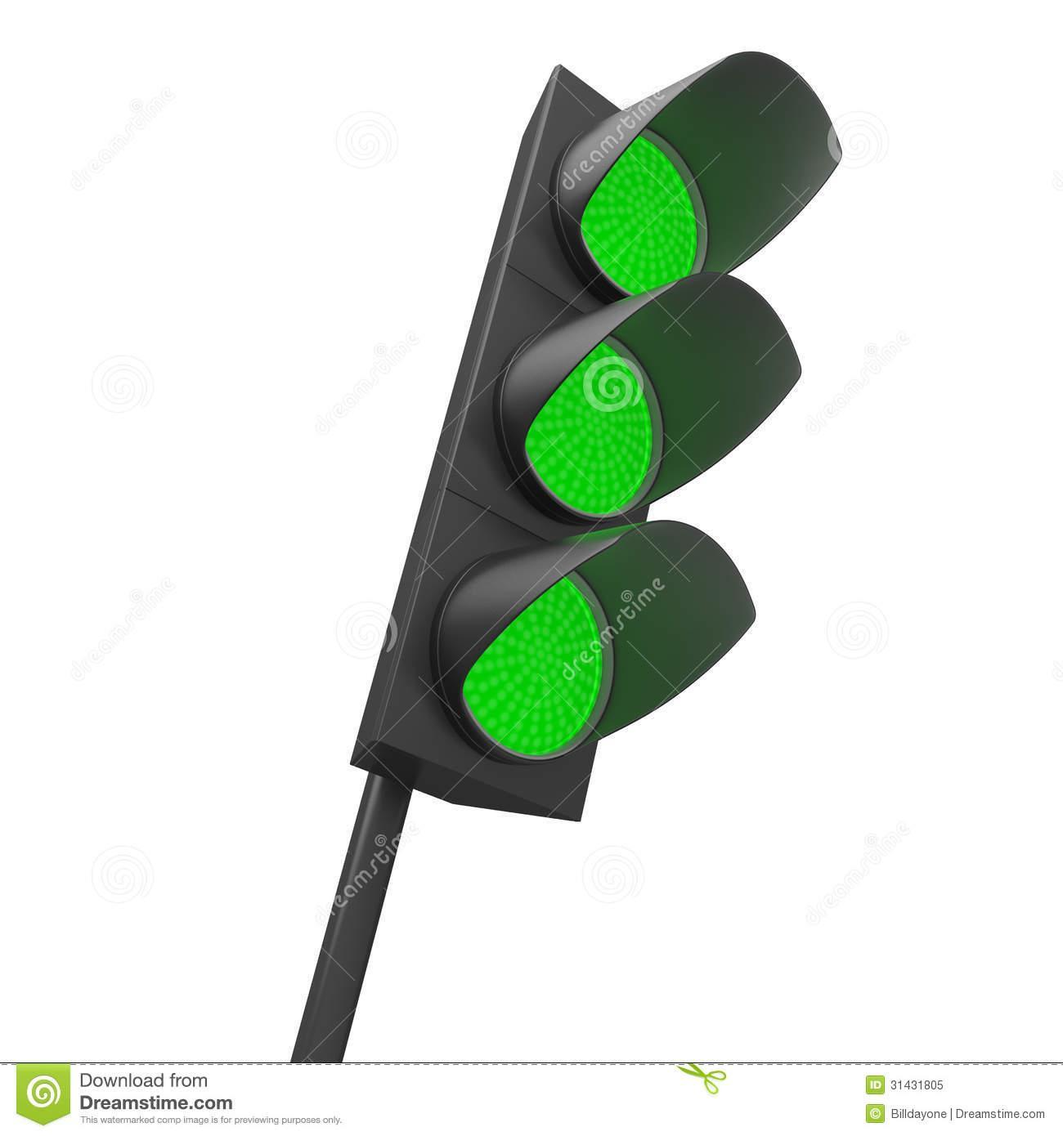green: (311, 16, 842, 885)
